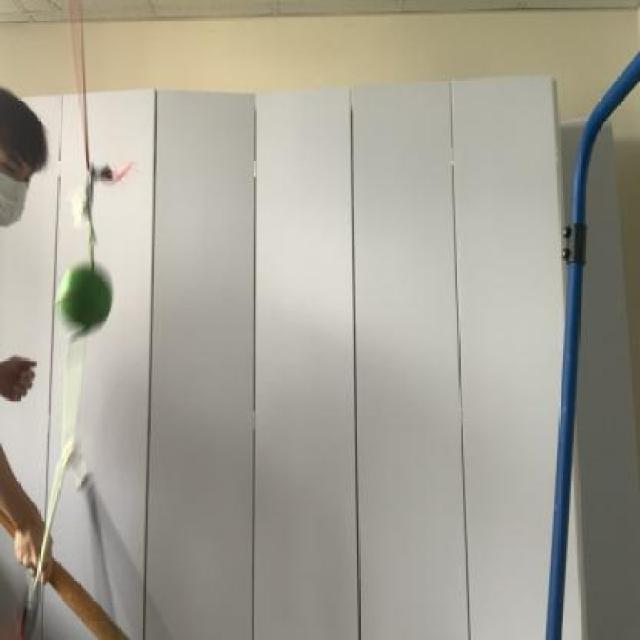baseball: (56, 252, 116, 348)
